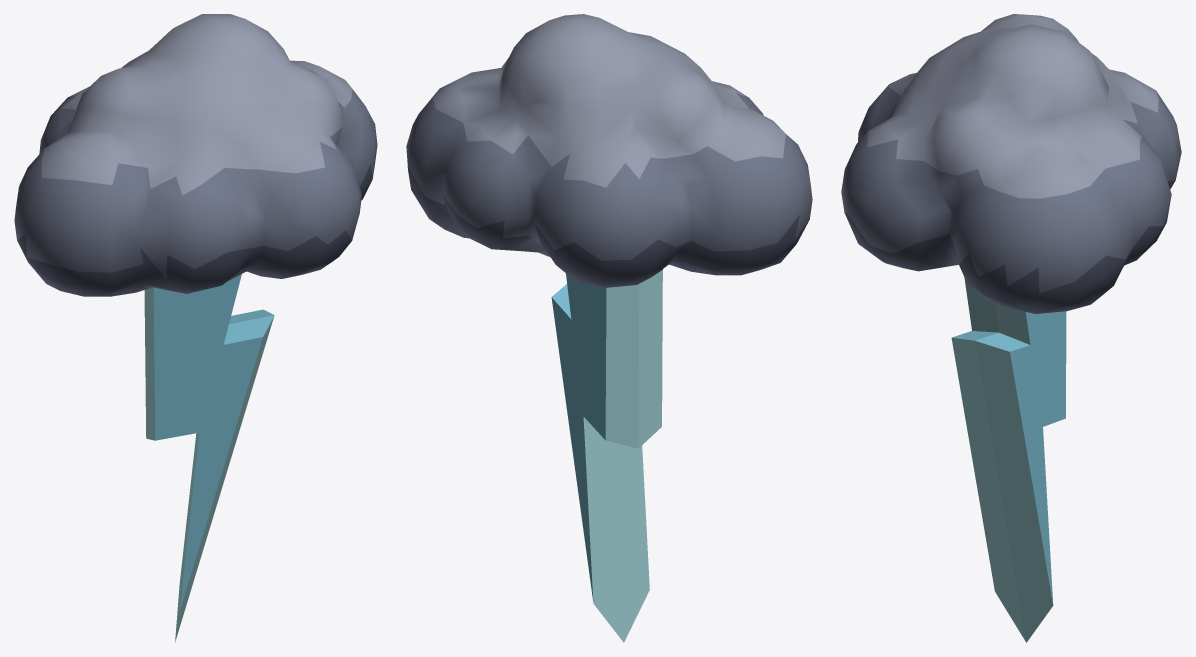
Rendered from Stormwood_Tree.glb.
3 renders of one model, left to right at view 1: azimuth 30°, elevation 25°; view 2: azimuth 150°, elevation 25°; view 3: azimuth 270°, elevation 25°, orthographic. The views are drawn at different scales.
Parts seen in each view (by area): view 1: Stormwood_Tree; view 2: Stormwood_Tree; view 3: Stormwood_Tree.
Boxes of the visible parts, x1,y1,x2,y2 form: Stormwood_Tree: (14, 14, 377, 642); Stormwood_Tree: (406, 14, 812, 642); Stormwood_Tree: (841, 14, 1181, 642).
Size of the model in its own units: 7.96 by 12.85 by 6.26.
